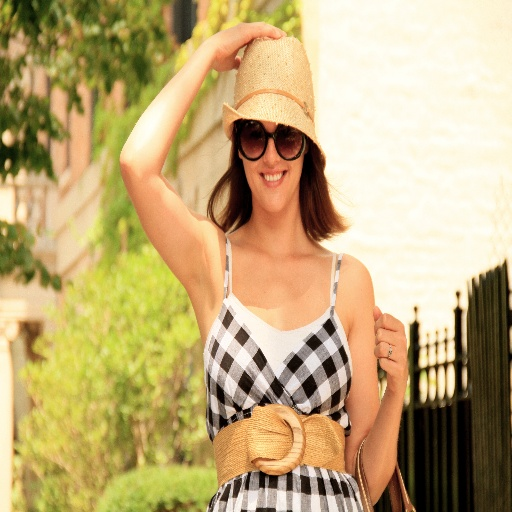hand: (208, 19, 288, 71), (373, 317, 414, 388)
